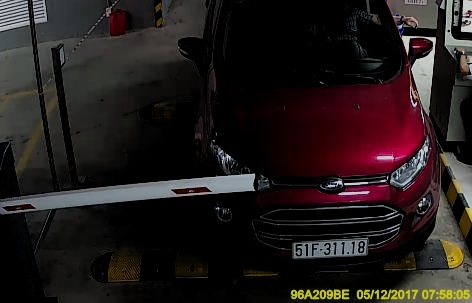plate: (290, 234, 367, 257)
